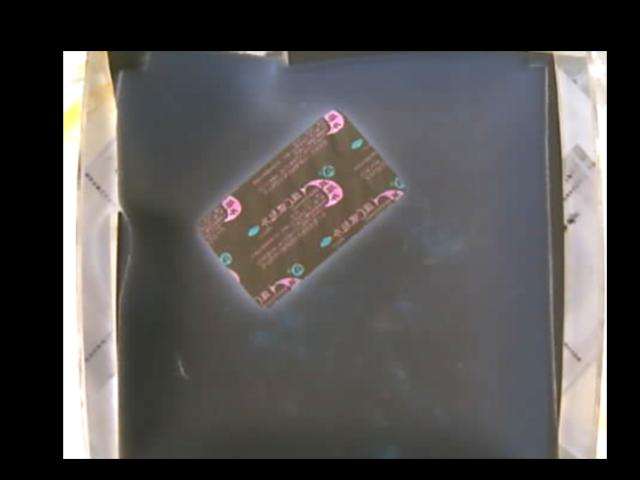Medicine: (195, 109, 399, 308)
